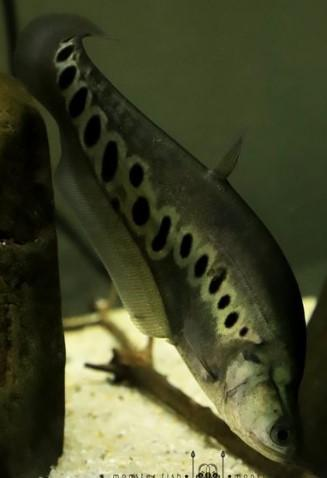Knifefish: (12, 12, 310, 465)
